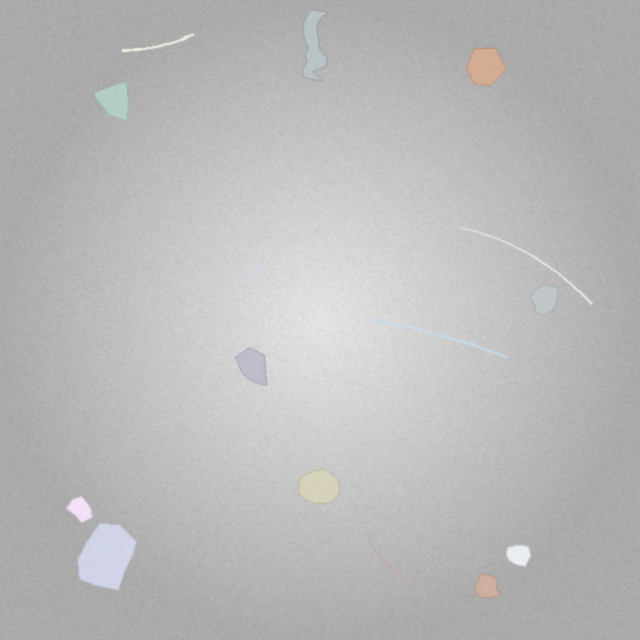fiber: (459, 224, 594, 307), (368, 317, 510, 361), (362, 530, 427, 591), (119, 31, 197, 54), (228, 260, 266, 293)
film: (302, 9, 328, 81)
fragment: (78, 524, 136, 591), (466, 49, 507, 85), (93, 82, 129, 121), (299, 469, 339, 504), (236, 348, 266, 385), (530, 284, 558, 315), (67, 497, 92, 522), (475, 574, 500, 598), (506, 545, 530, 567)
